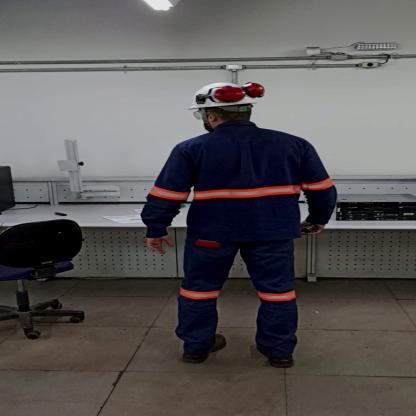Capacete: (183, 81, 266, 109)
